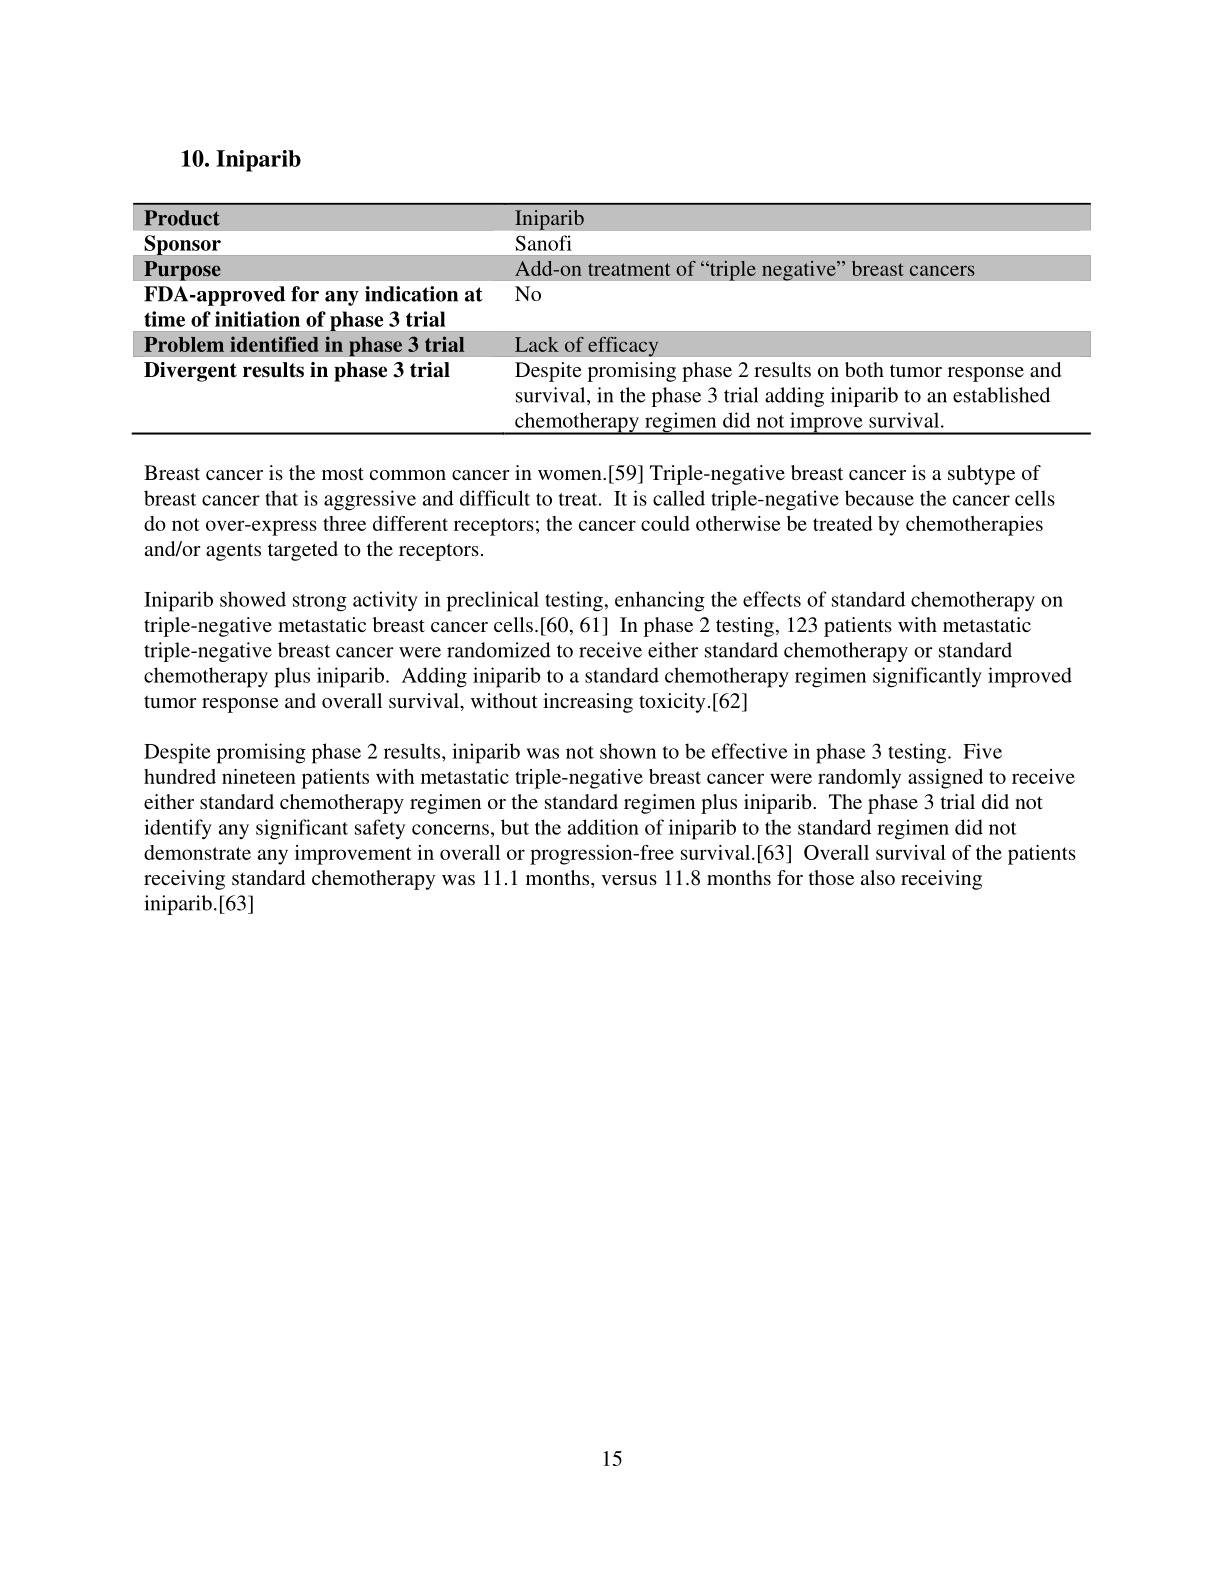partial_lined: (131, 202, 1093, 436)
